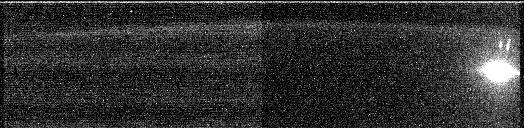positive: (496, 36, 513, 56)
